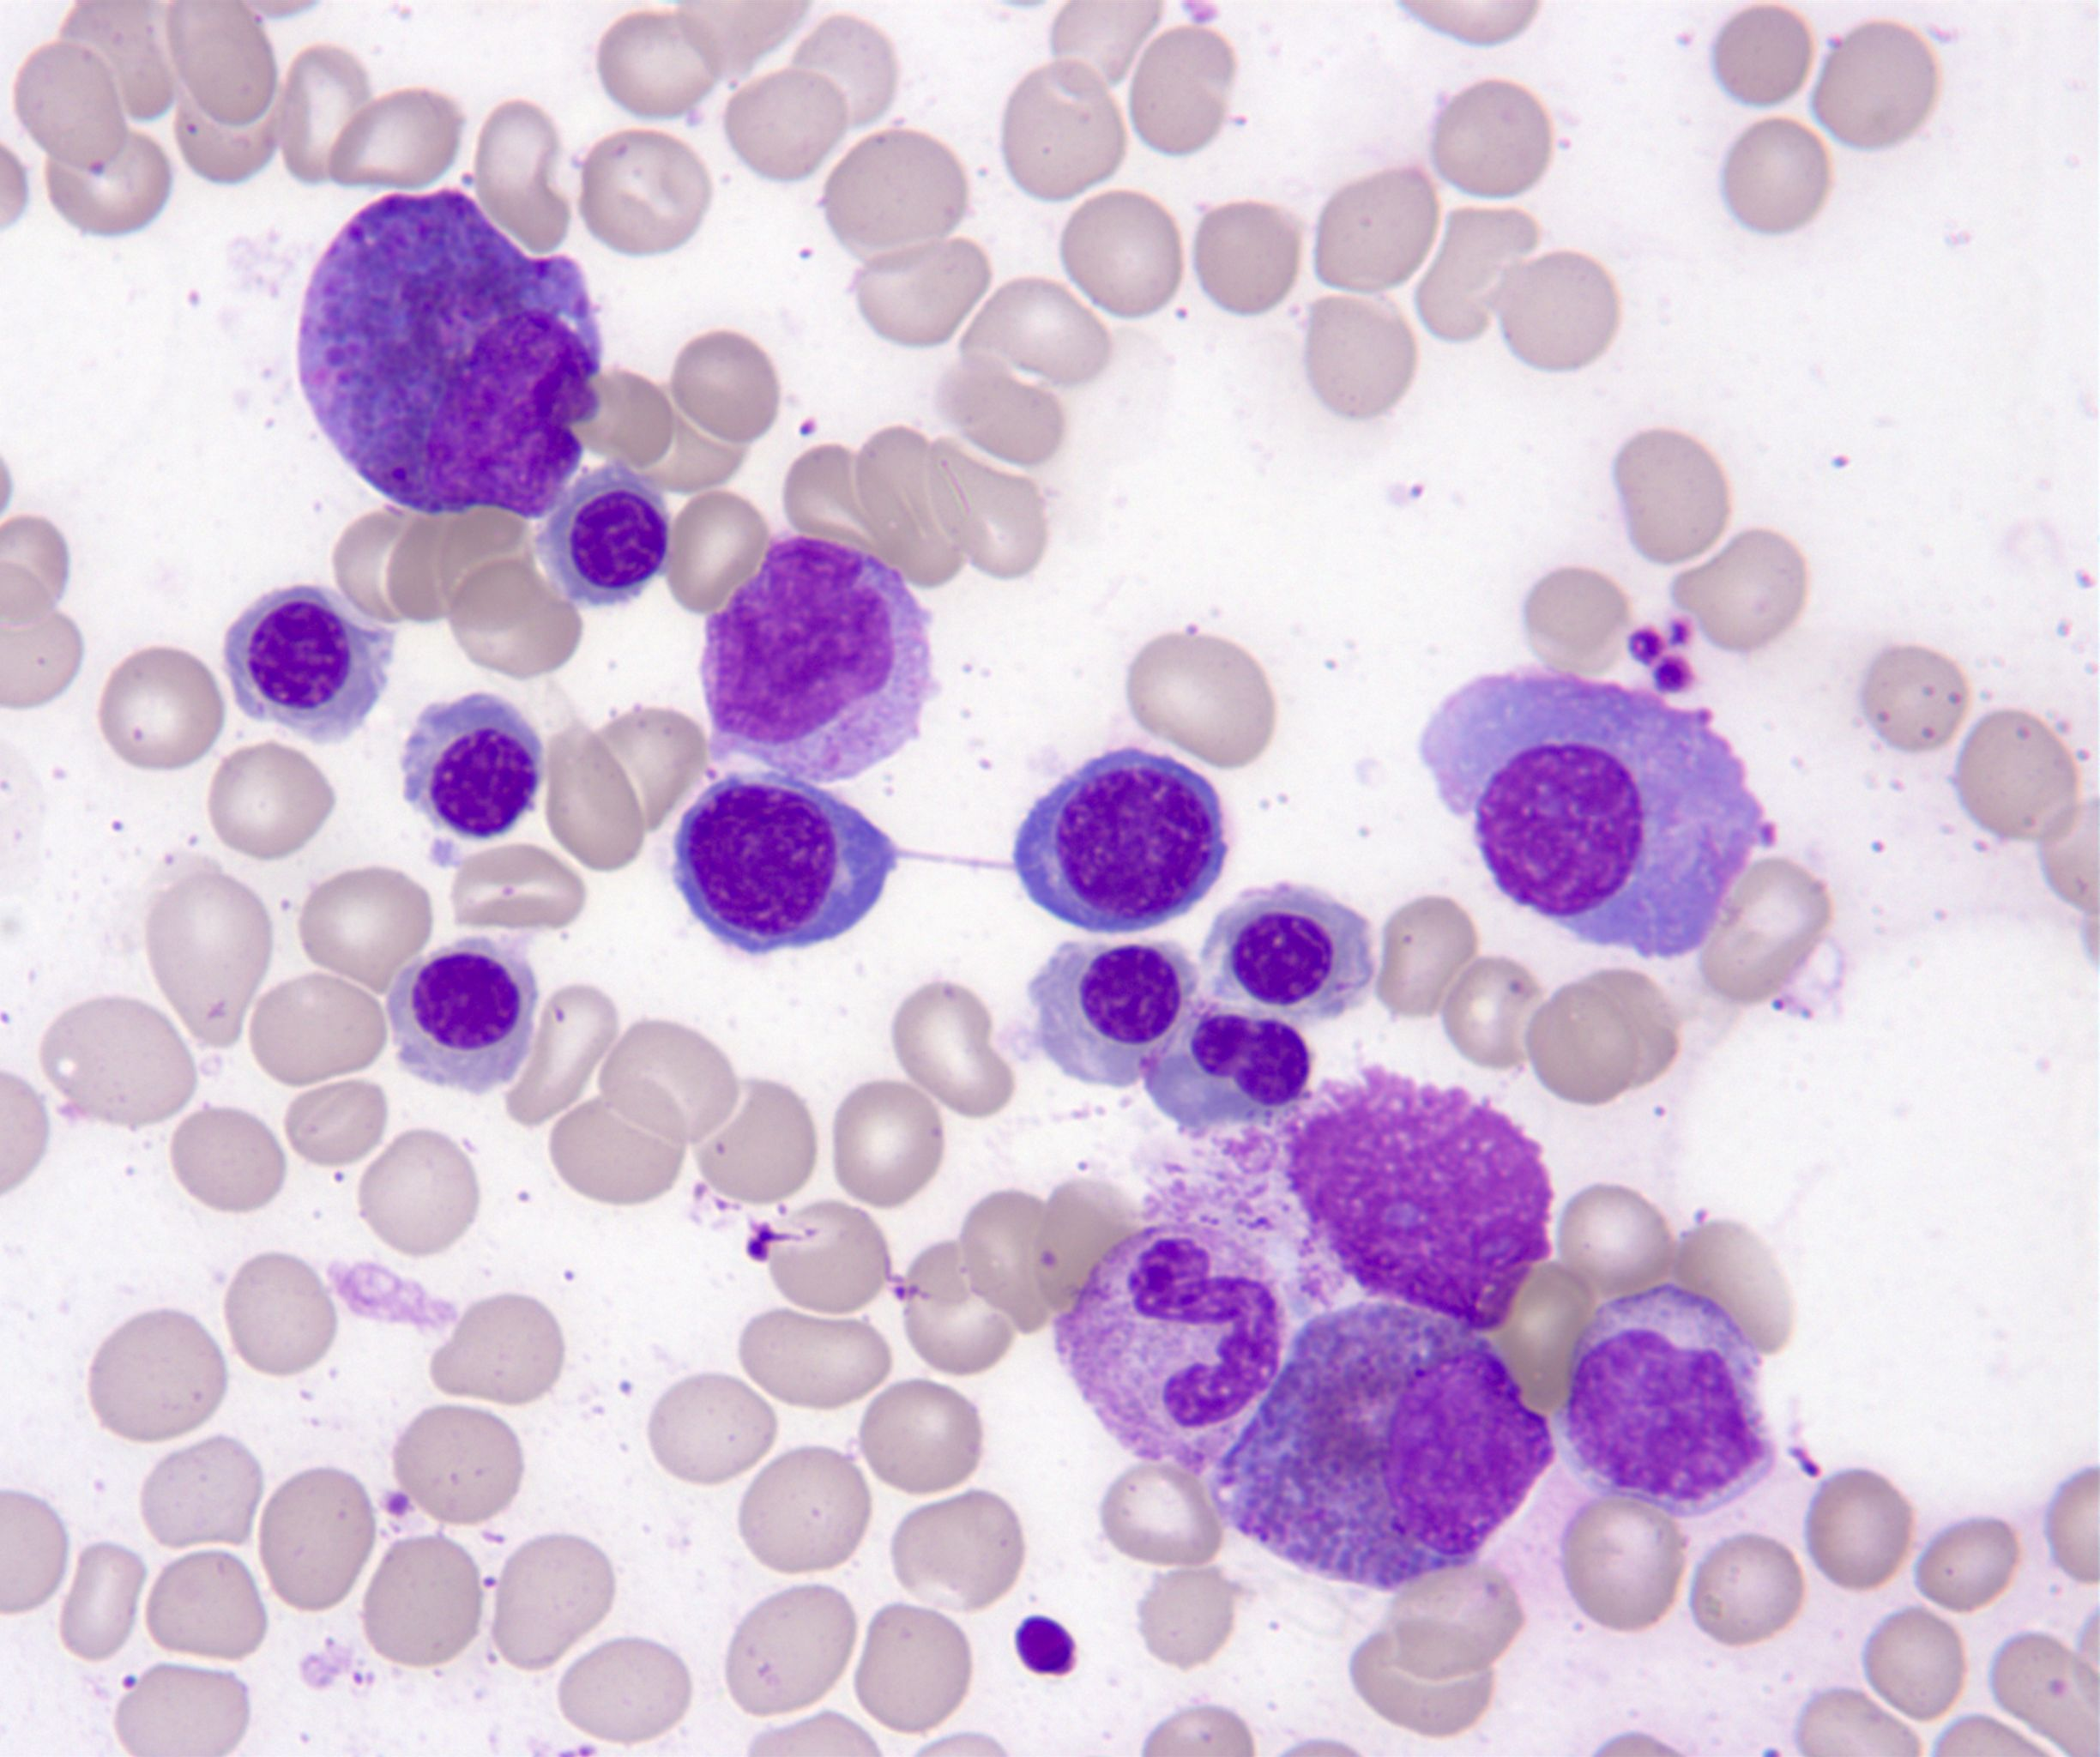23: (670, 773, 961, 951), (970, 750, 1224, 935)
24: (223, 588, 394, 747), (1027, 939, 1197, 1089), (1200, 892, 1374, 1024), (391, 935, 539, 1087), (1141, 1002, 1313, 1127), (401, 694, 546, 837), (539, 464, 675, 607)
3: (699, 532, 930, 782), (1565, 1288, 1781, 1518)
5: (1055, 1227, 1306, 1478)
E1: (1214, 1302, 1559, 1593)
E2: (298, 190, 603, 518)
x: (1423, 672, 1776, 961), (1292, 1064, 1554, 1330)
